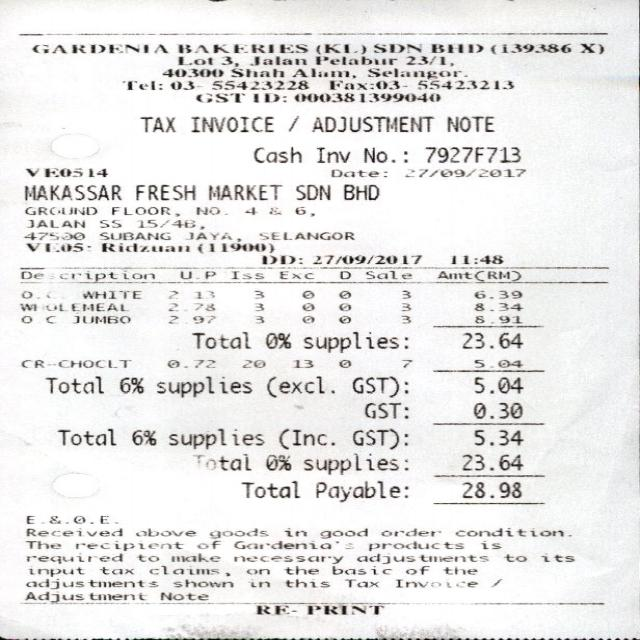text: (300, 330, 405, 351), (300, 452, 405, 473), (156, 375, 250, 397), (166, 427, 262, 448), (313, 480, 405, 500), (311, 116, 432, 131), (19, 269, 152, 281), (424, 146, 517, 162), (265, 375, 331, 397), (23, 184, 119, 199), (29, 42, 165, 52), (23, 578, 155, 588), (23, 590, 142, 601), (176, 42, 306, 52), (356, 552, 486, 562), (294, 92, 438, 101), (349, 375, 405, 397), (188, 116, 270, 131), (276, 427, 332, 448), (350, 427, 405, 448), (366, 66, 460, 78), (460, 452, 522, 470), (206, 184, 280, 199), (460, 331, 522, 348), (436, 269, 520, 281), (190, 331, 249, 348), (55, 427, 113, 444), (240, 480, 298, 497), (310, 254, 418, 263), (194, 452, 248, 470), (454, 526, 562, 535), (402, 168, 523, 176), (75, 540, 181, 549), (459, 481, 518, 497), (233, 540, 351, 548), (367, 540, 461, 550), (25, 552, 119, 562), (44, 376, 102, 392), (196, 241, 272, 253), (148, 564, 228, 575), (24, 527, 121, 536), (134, 184, 192, 199), (20, 358, 128, 366), (232, 554, 340, 562), (490, 43, 570, 53), (472, 376, 522, 392), (472, 428, 522, 444), (415, 80, 511, 88), (210, 80, 306, 88), (472, 402, 520, 418), (306, 604, 382, 614), (257, 231, 351, 239), (18, 303, 122, 310), (314, 55, 394, 64), (254, 146, 299, 162), (24, 515, 114, 523), (447, 116, 492, 131), (363, 402, 405, 418), (110, 205, 177, 215), (363, 146, 404, 162), (99, 242, 180, 250), (290, 66, 353, 76), (327, 80, 404, 88), (136, 219, 202, 228), (159, 591, 208, 603), (393, 579, 475, 586), (23, 206, 94, 214), (98, 231, 168, 239), (314, 43, 364, 54), (342, 183, 376, 199), (161, 67, 220, 76), (315, 146, 348, 162), (139, 116, 174, 131), (80, 289, 138, 298), (208, 528, 266, 537), (430, 42, 482, 52), (230, 67, 282, 77), (25, 167, 81, 176), (25, 242, 88, 250), (294, 184, 327, 199), (27, 566, 81, 575), (404, 55, 452, 65), (22, 231, 82, 239), (448, 254, 501, 263), (329, 565, 388, 573), (372, 42, 419, 52), (70, 314, 128, 322), (187, 231, 238, 240), (329, 168, 386, 176), (248, 56, 304, 64), (26, 218, 82, 226), (364, 269, 408, 279), (472, 289, 520, 298), (317, 528, 365, 537), (170, 579, 231, 586), (263, 454, 289, 470), (135, 528, 194, 535), (259, 254, 300, 264), (380, 528, 438, 535), (264, 332, 289, 348), (472, 358, 522, 366), (168, 552, 218, 560), (193, 93, 242, 101), (255, 604, 294, 614), (472, 302, 520, 310), (472, 314, 520, 322), (165, 358, 212, 366), (168, 314, 214, 322), (282, 578, 328, 586), (119, 80, 159, 89), (118, 376, 140, 392), (130, 430, 155, 444), (166, 303, 213, 310), (177, 55, 210, 64), (178, 270, 214, 278), (23, 540, 58, 548), (282, 565, 317, 573), (278, 270, 312, 278), (252, 93, 284, 101), (230, 270, 262, 278), (578, 42, 602, 52), (97, 566, 131, 573), (343, 579, 376, 586), (540, 554, 572, 561), (442, 566, 474, 573), (168, 80, 194, 88), (282, 527, 304, 536), (293, 205, 312, 215), (194, 540, 217, 548), (404, 565, 427, 573), (194, 289, 214, 298), (96, 218, 118, 226), (241, 358, 263, 366), (135, 553, 157, 561), (194, 206, 217, 213), (291, 358, 311, 366), (219, 56, 236, 65), (86, 168, 105, 176), (286, 115, 296, 130), (501, 554, 524, 560), (244, 567, 267, 573), (479, 542, 499, 548), (337, 289, 350, 298), (165, 289, 178, 298), (299, 289, 312, 298), (44, 314, 57, 323), (248, 580, 267, 586), (299, 302, 312, 310), (19, 290, 32, 297), (299, 315, 312, 322), (401, 358, 411, 367), (267, 206, 278, 214), (338, 270, 349, 278), (337, 302, 348, 310), (337, 314, 348, 322), (337, 358, 348, 366), (242, 206, 253, 213), (19, 315, 30, 322), (253, 302, 262, 310), (400, 302, 409, 310), (490, 578, 499, 586), (252, 290, 261, 297), (400, 290, 408, 297), (400, 315, 408, 322), (253, 315, 261, 322)
